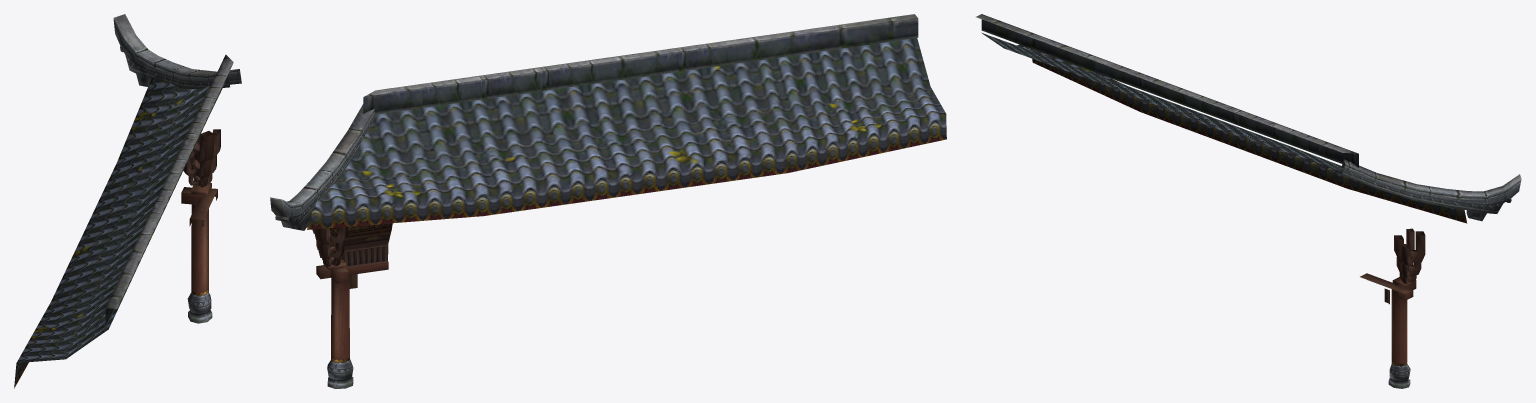
File: S2_Build_XSC059_H3.FBX
3 views of the same model, side by side, from view 1: azimuth 30°, elevation 25°; view 2: azimuth 150°, elevation 25°; view 3: azimuth 270°, elevation 25° (orthographic). The views are drawn at different scales.
Visible parts, largest first — view 1: S2_Build_XSC059_H3; view 2: S2_Build_XSC059_H3; view 3: S2_Build_XSC059_H3.
Boxes of the visible parts, x1,y1,x2,y2 form: S2_Build_XSC059_H3: (14, 14, 241, 388); S2_Build_XSC059_H3: (270, 14, 946, 388); S2_Build_XSC059_H3: (976, 14, 1521, 388).
Bounding box in the file's own units: 4488 × 2774 × 5942.
